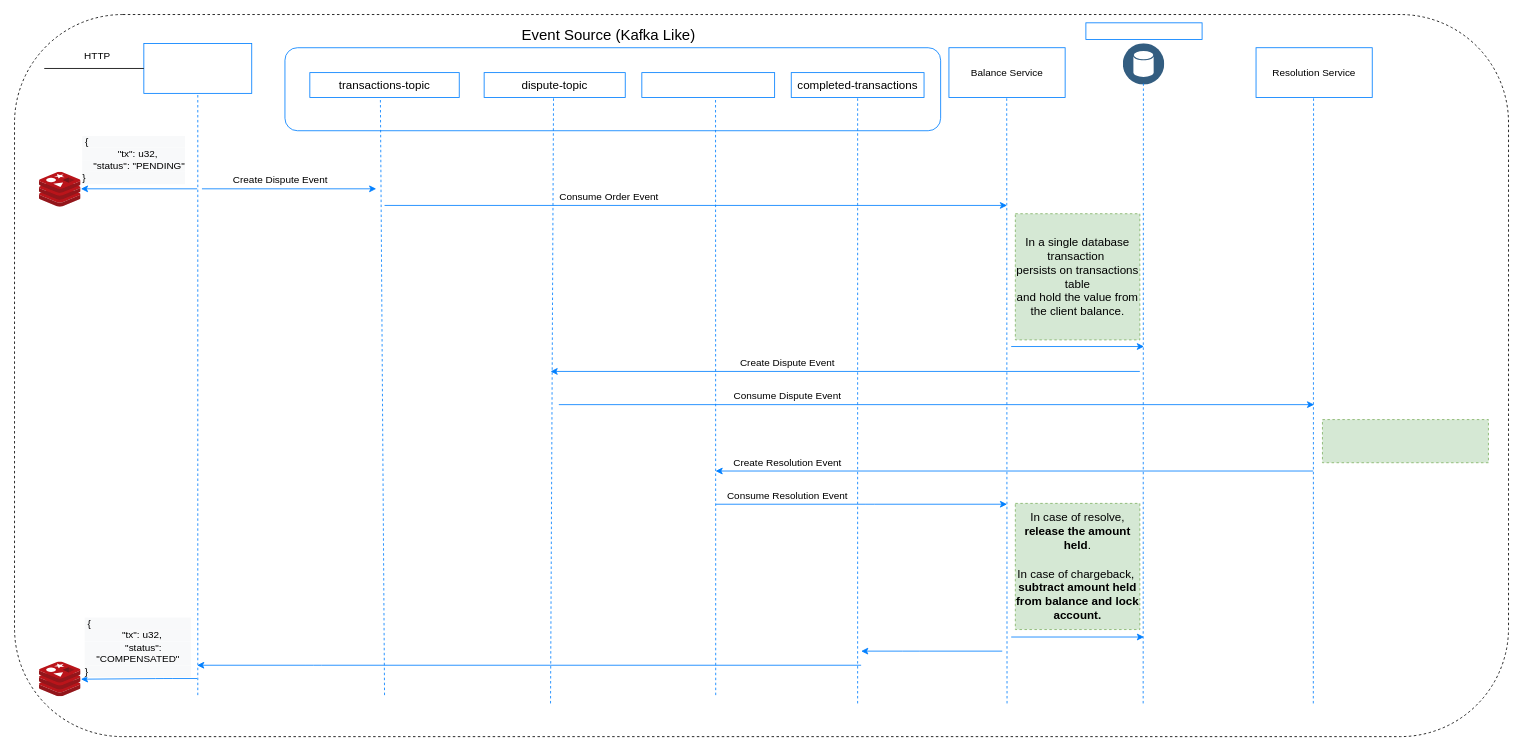
Some shapes in this 1523 by 751 pixel diagram are drawn without their labels. Here are the shapes that lost their labels. From the top down, the centre of each, then its label:
At pixel 1143 30: "Balance DB".
At pixel 197 68: "Order Transfer Service".
At pixel 708 85: "dispute-resolution-topic".
At pixel 1405 441: "Either resolve or chargeback.".
